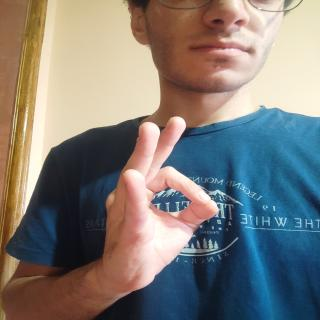Space: (100, 115, 222, 283)
